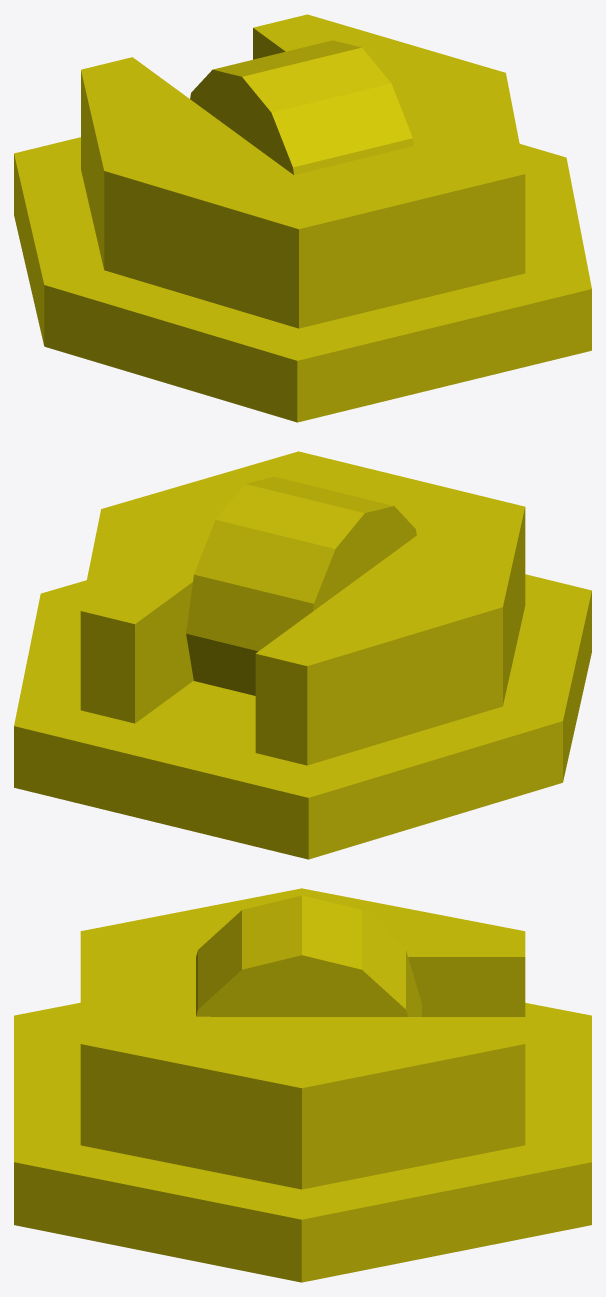
3 renders of one model, top to bottom at view 1: azimuth 30°, elevation 25°; view 2: azimuth 150°, elevation 25°; view 3: azimuth 270°, elevation 25°, orthographic.
Parts seen in each view (by area): view 1: parta100_001, parta100, Cylinder; view 2: parta100_001, parta100, Cylinder; view 3: parta100_001, parta100, Cylinder.
Boxes of the visible parts, x1,y1,x2,y2 form: parta100_001: (81,14,525,328); parta100: (14,137,591,422); Cylinder: (190,40,413,174); parta100_001: (80,451,525,765); parta100: (14,574,591,859); Cylinder: (186,476,416,695); parta100_001: (80,888,525,1189); parta100: (14,1002,591,1282); Cylinder: (196,895,421,1016).
Size of what is drawn, in the model's own units: 5.12 by 4.82 by 2.08.
